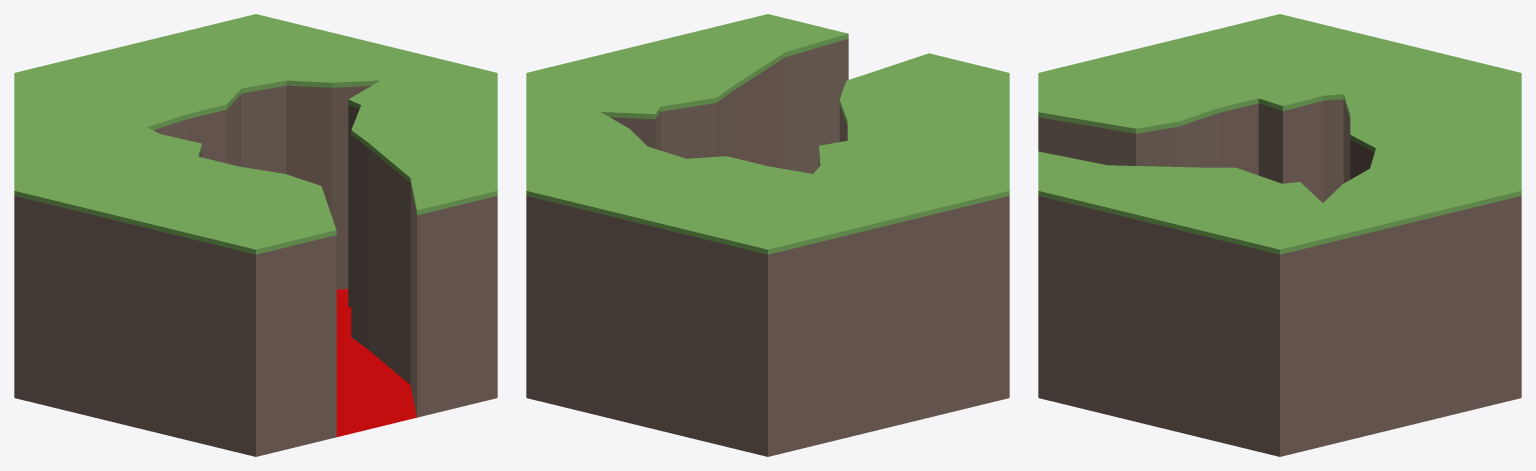
Rendered from tile_Lava01.fbx.
3 renders of one model, left to right at view 1: azimuth 30°, elevation 25°; view 2: azimuth 150°, elevation 25°; view 3: azimuth 270°, elevation 25°, orthographic.
Visible parts, largest first — view 1: Tile16; view 2: Tile16; view 3: Tile16.
Boxes of the visible parts, x1=… form: Tile16: x1=14, y1=14, x2=497, y2=456; Tile16: x1=526, y1=14, x2=1009, y2=456; Tile16: x1=1038, y1=14, x2=1521, y2=456.
Size of the model in its own units: 2 by 0.82 by 1.73.
